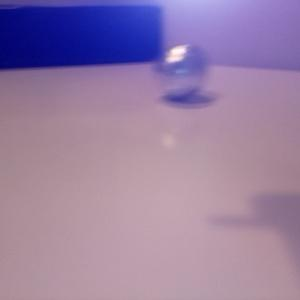alive_ball: (153, 43, 209, 100)
